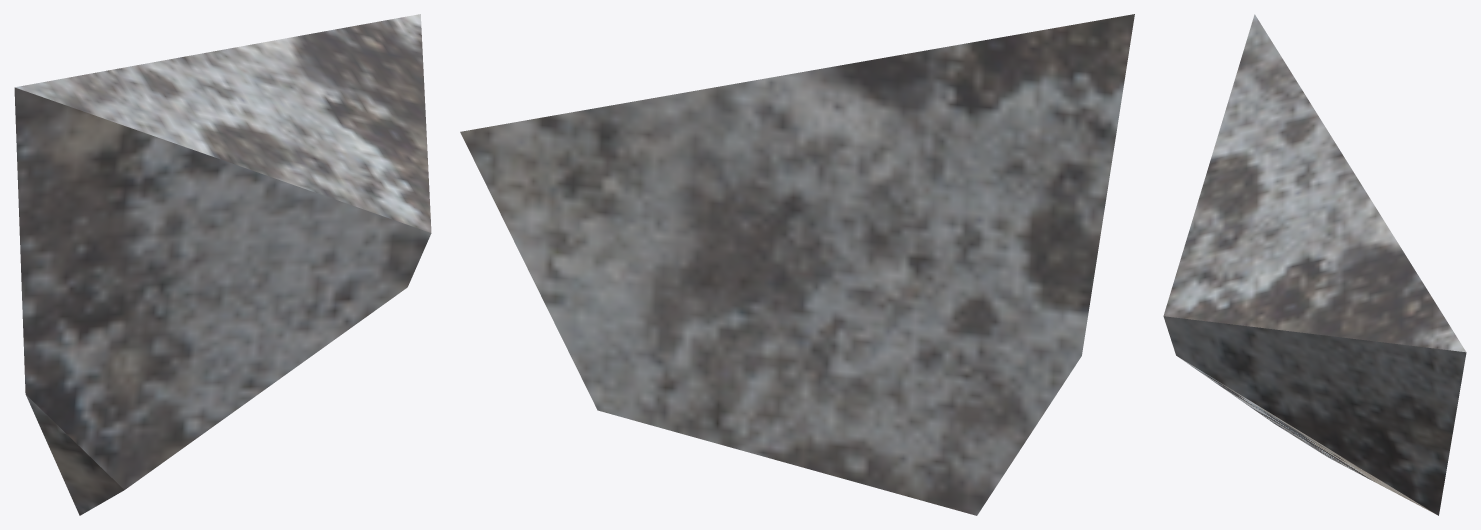
The model's file is Asteroid_Large_001_02_001_03_002.fbx.
The picture shows the model from 3 angles, left to right: view 1: azimuth 30°, elevation 25°; view 2: azimuth 150°, elevation 25°; view 3: azimuth 270°, elevation 25°; orthographic projection. The views are drawn at different scales.
Parts seen in each view (by area): view 1: Asteroid_Large_001_02_001_03_002; view 2: Asteroid_Large_001_02_001_03_002; view 3: Asteroid_Large_001_02_001_03_002.
Part boxes in pixels (x1,y1,x2,y2): Asteroid_Large_001_02_001_03_002: (14, 14, 431, 515); Asteroid_Large_001_02_001_03_002: (460, 14, 1134, 515); Asteroid_Large_001_02_001_03_002: (1163, 14, 1466, 515).
Bounding box in the file's own units: 4.55 × 3.97 × 2.73.
